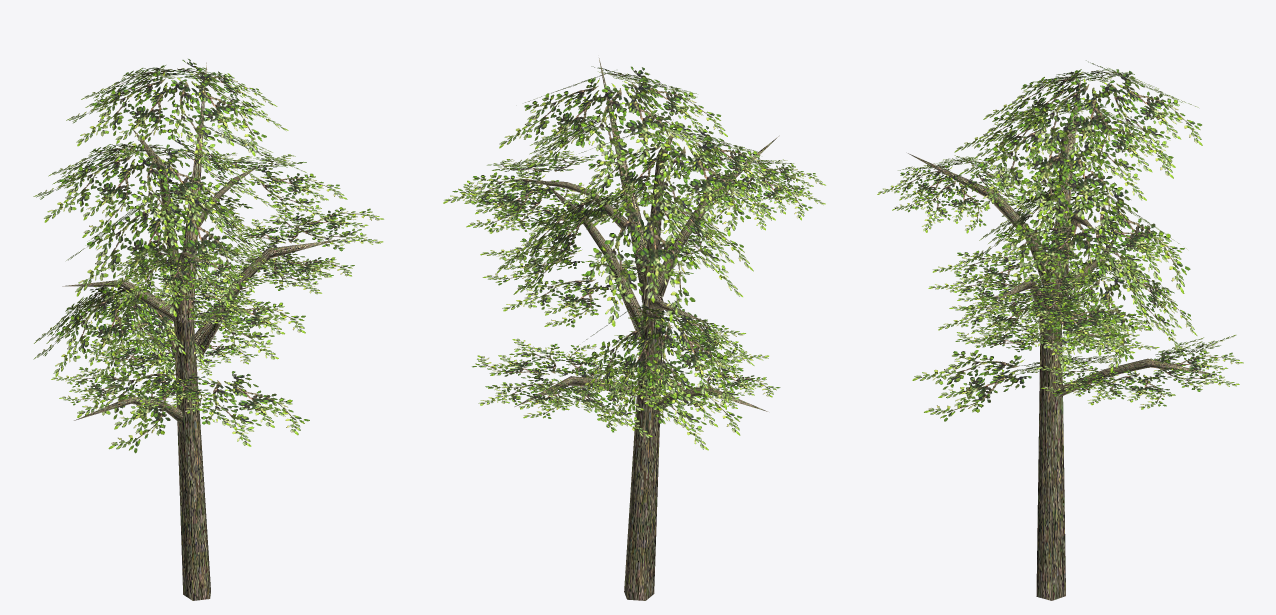
Rendered from tree_deciduous_a_1.glb.
The picture shows the model from 3 angles, left to right: view 1: azimuth 30°, elevation 25°; view 2: azimuth 150°, elevation 25°; view 3: azimuth 270°, elevation 25°; orthographic projection. The views are drawn at different scales.
Visible parts, largest first — view 1: tree_deciduous_a_1; view 2: tree_deciduous_a_1; view 3: tree_deciduous_a_1.
Part boxes in pixels (x1,y1,x2,y2): tree_deciduous_a_1: [33, 59, 383, 600]; tree_deciduous_a_1: [443, 58, 825, 600]; tree_deciduous_a_1: [877, 60, 1243, 600].
Size of the model in its own units: 12.83 by 18.52 by 11.9.
1 material, 1 textured.
